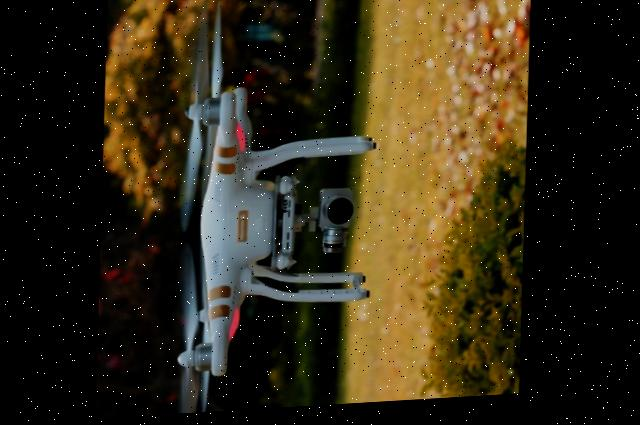drone: (174, 72, 382, 416)
